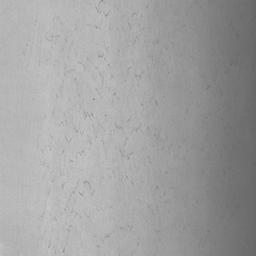Silk spot: (96, 0, 109, 17), (83, 180, 95, 196), (119, 149, 133, 160), (253, 0, 256, 20), (254, 80, 256, 102)
